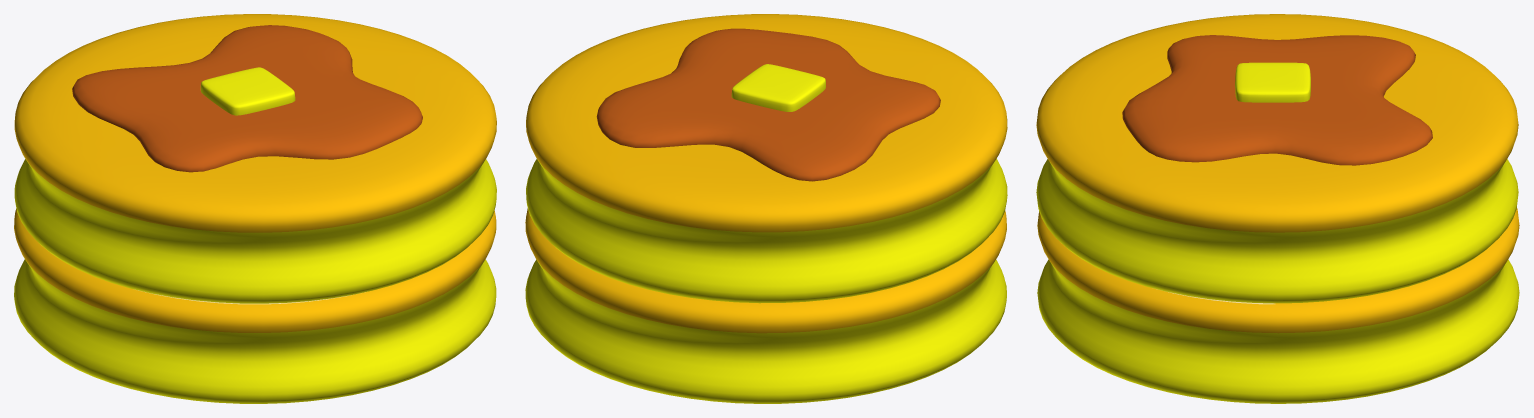
Rendered from pancake_kansei.fbx.
The picture shows the model from 3 angles, left to right: view 1: azimuth 30°, elevation 25°; view 2: azimuth 150°, elevation 25°; view 3: azimuth 270°, elevation 25°; orthographic projection.
Parts seen in each view (by area): view 1: 立方体; view 2: 立方体; view 3: 立方体.
Part boxes in pixels (left/top/right/bottom): 立方体: left=14, top=14, right=496, bottom=403; 立方体: left=525, top=14, right=1007, bottom=403; 立方体: left=1036, top=14, right=1519, bottom=403.
Size of the model in its own units: 193 by 102 by 194.
1 material, 1 textured.
